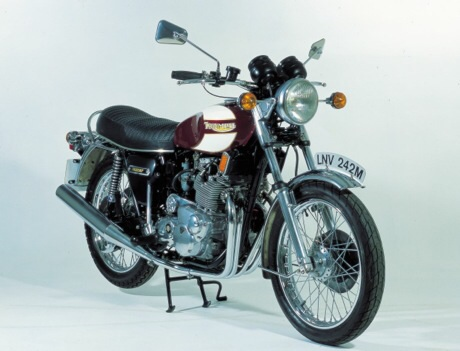number_plate: (311, 148, 373, 183)
